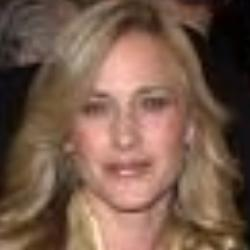face: (15, 1, 245, 244)
